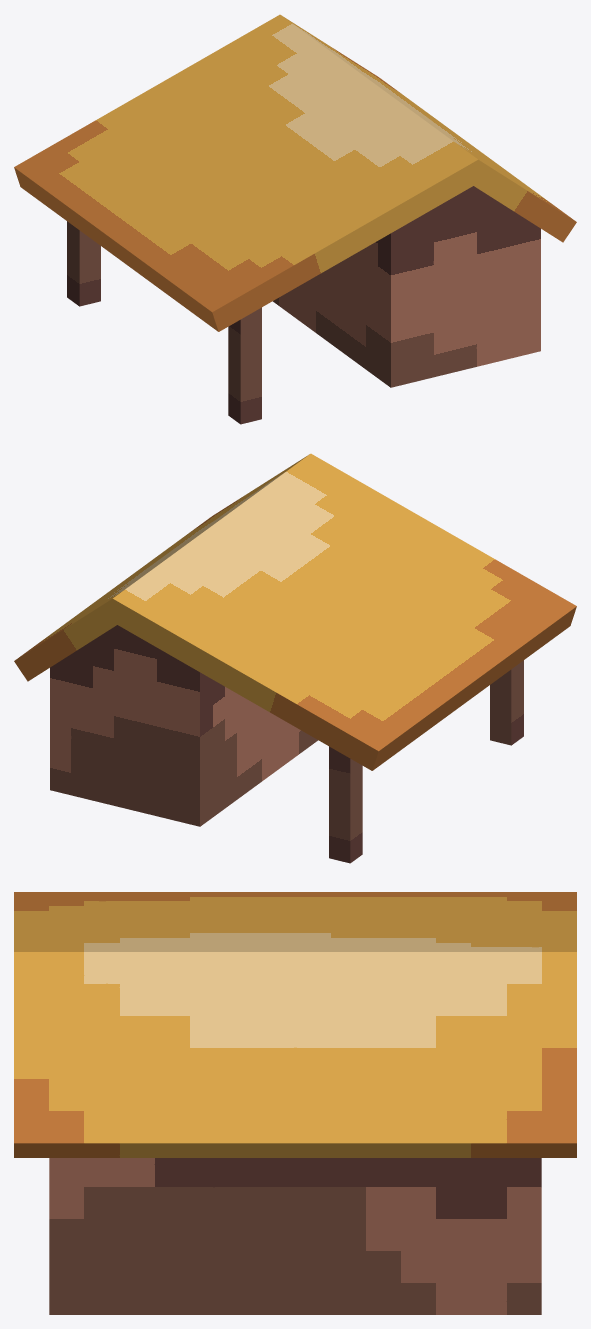
File: TempHouse1.gltf
3 views of the same model, one above another, from view 1: azimuth 30°, elevation 25°; view 2: azimuth 150°, elevation 25°; view 3: azimuth 270°, elevation 25° (orthographic). The views are drawn at different scales.
Parts seen in each view (by area): view 1: cube (×5); view 2: cube (×5); view 3: cube (×3).
Boxes of the visible parts, box(x1,y1,x2,y2) form: cube (×5): box(14, 14, 576, 424); cube (×5): box(14, 453, 576, 863); cube (×3): box(14, 892, 576, 1314).
Bounding box in the file's own units: 1.06 × 0.6094 × 1.
1 material, 1 textured.
